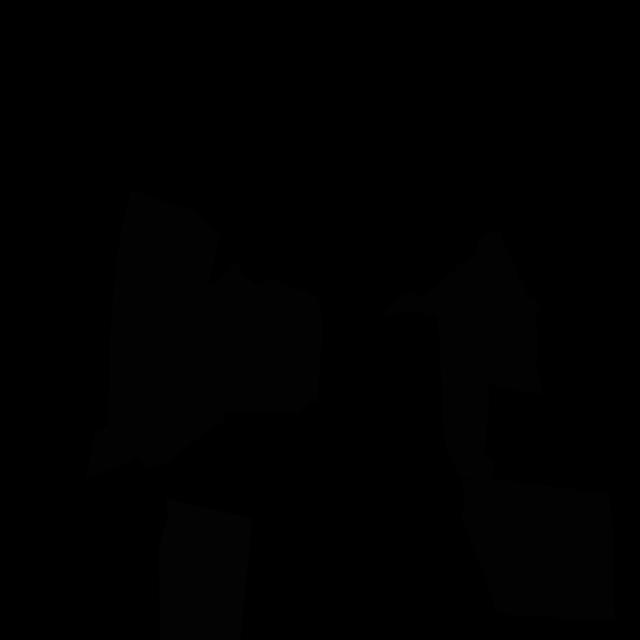cardboard: (86, 190, 324, 479), (381, 230, 543, 477), (460, 478, 615, 622)
metal: (159, 498, 252, 640)
